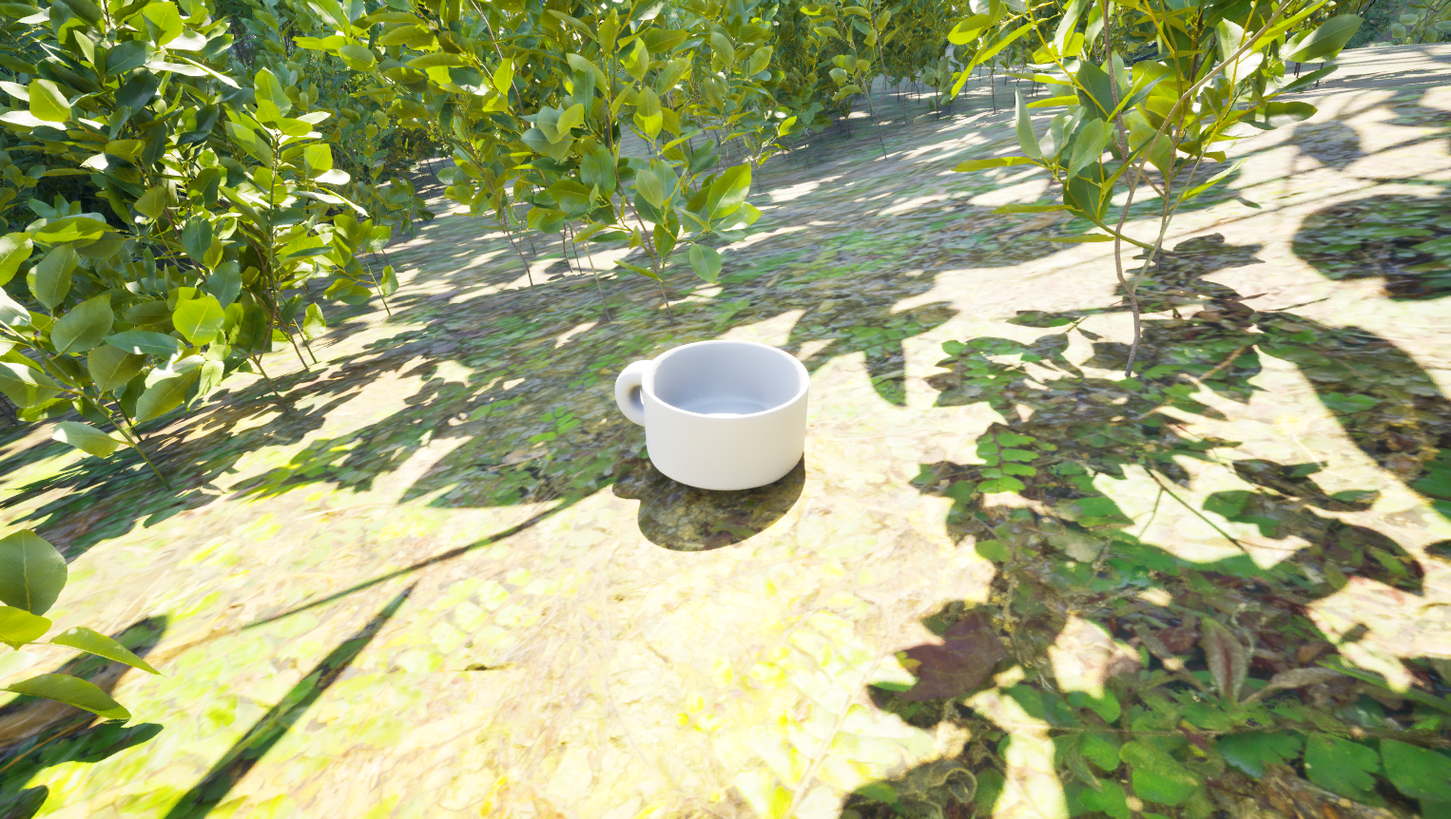Teacup: (601, 320, 845, 516)
